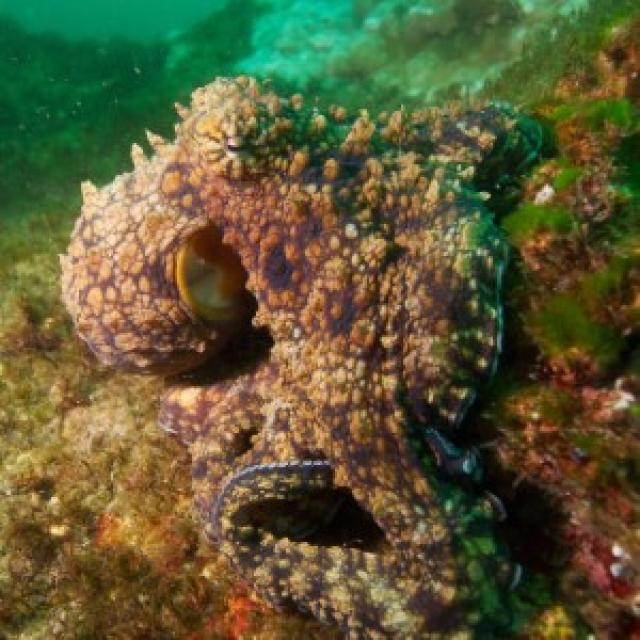Octo: (55, 78, 545, 582)
